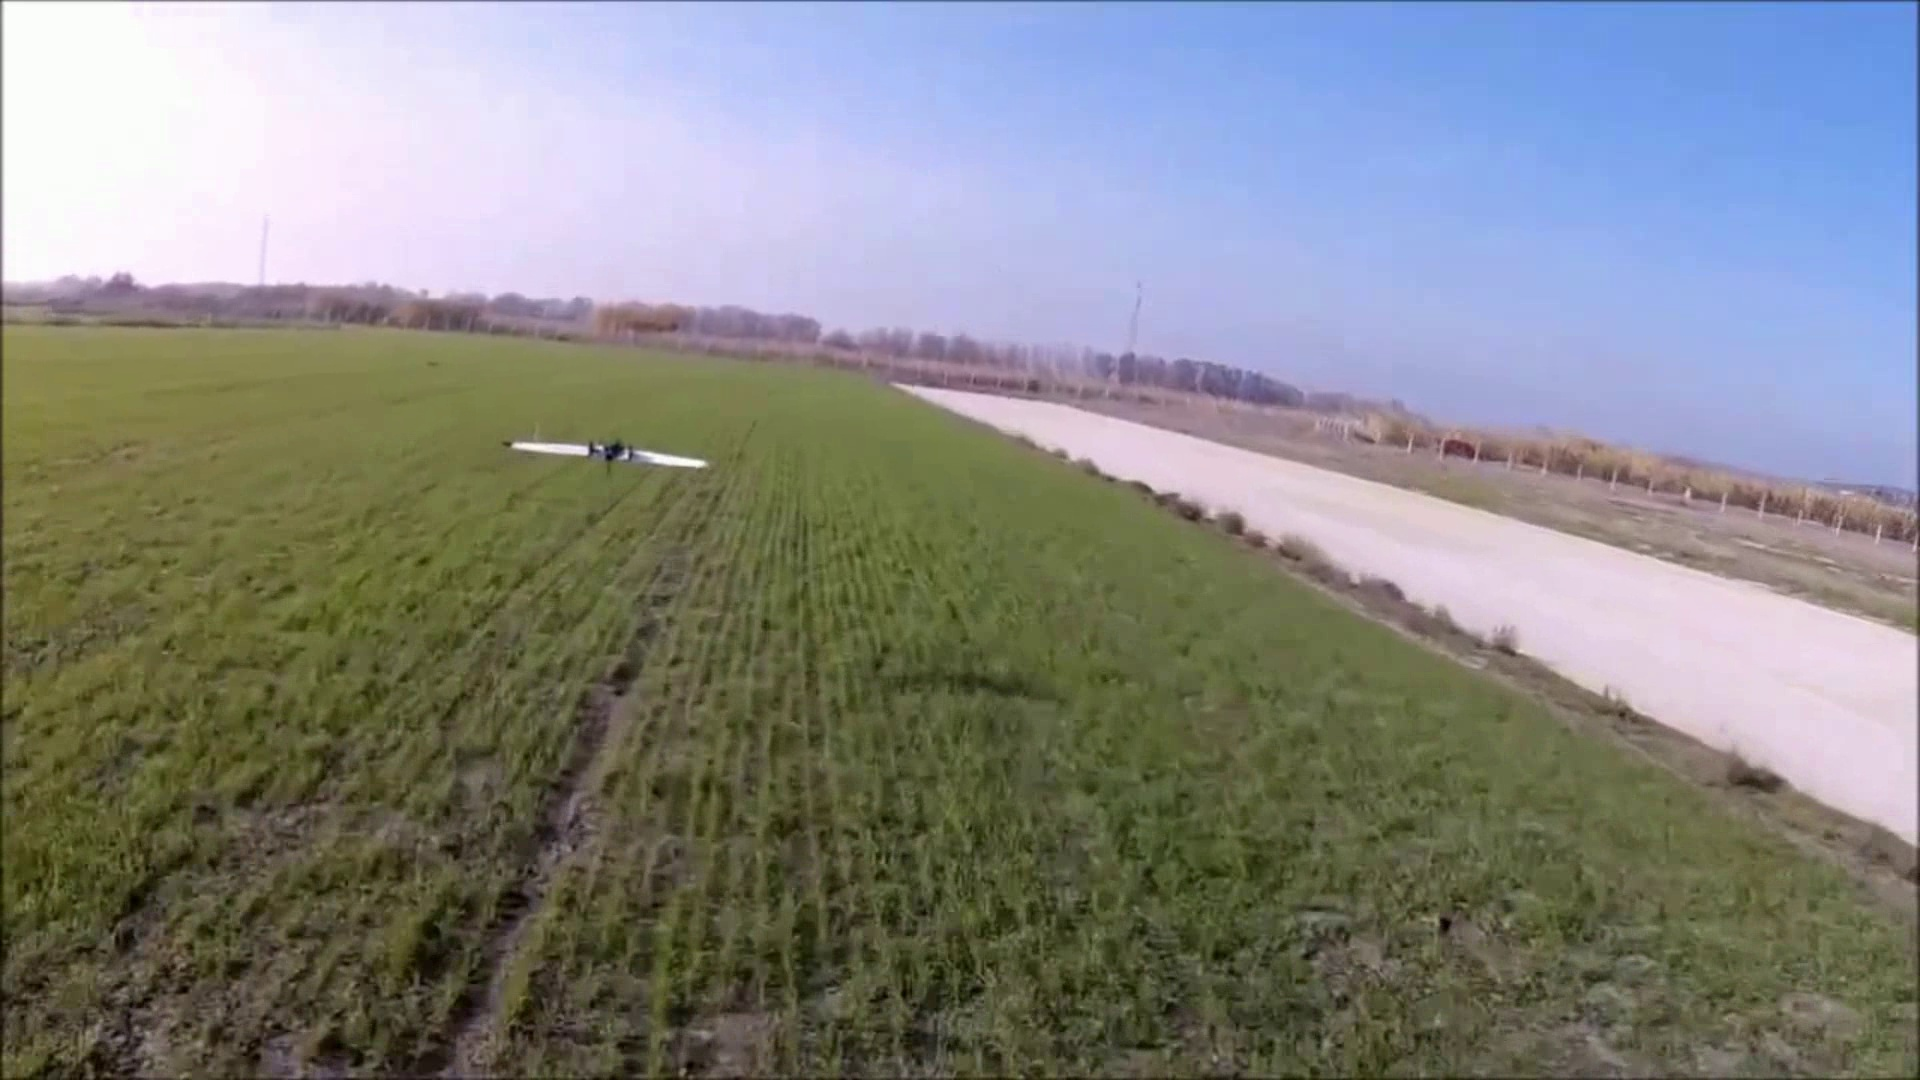airplane: (508, 436, 709, 471)
